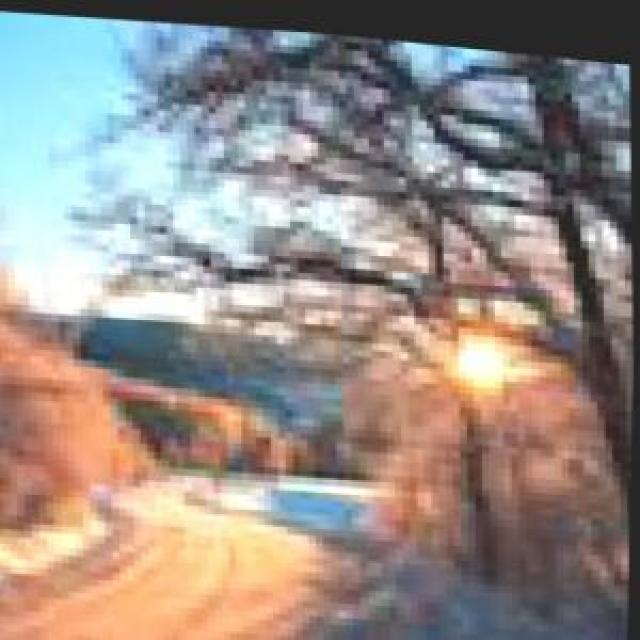clear-road: (2, 490, 316, 640)
